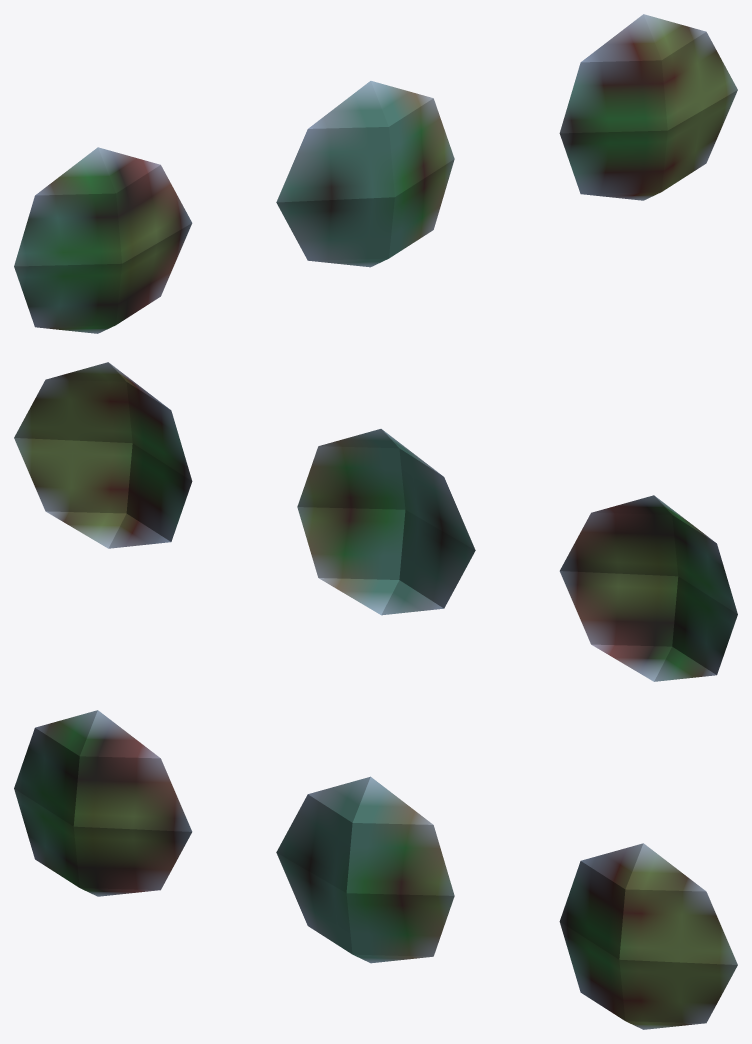
Rendered from Poly_SF_Outside_B_Traffic_Light_01_Bottom_Green.obj.
The picture shows the model from 3 angles, top to bottom: view 1: azimuth 30°, elevation 25°; view 2: azimuth 150°, elevation 25°; view 3: azimuth 330°, elevation 25°; orthographic projection.
Visible parts, largest first — view 1: Cube.004; view 2: Cube.004; view 3: Cube.004.
Boxes of the visible parts, x1=… form: Cube.004: x1=14, y1=14, x2=737, y2=333; Cube.004: x1=14, y1=362, x2=737, y2=681; Cube.004: x1=14, y1=710, x2=737, y2=1029.
Bounding box in the file's own units: 0.69 × 0.17 × 0.04.
1 material, 1 textured.
